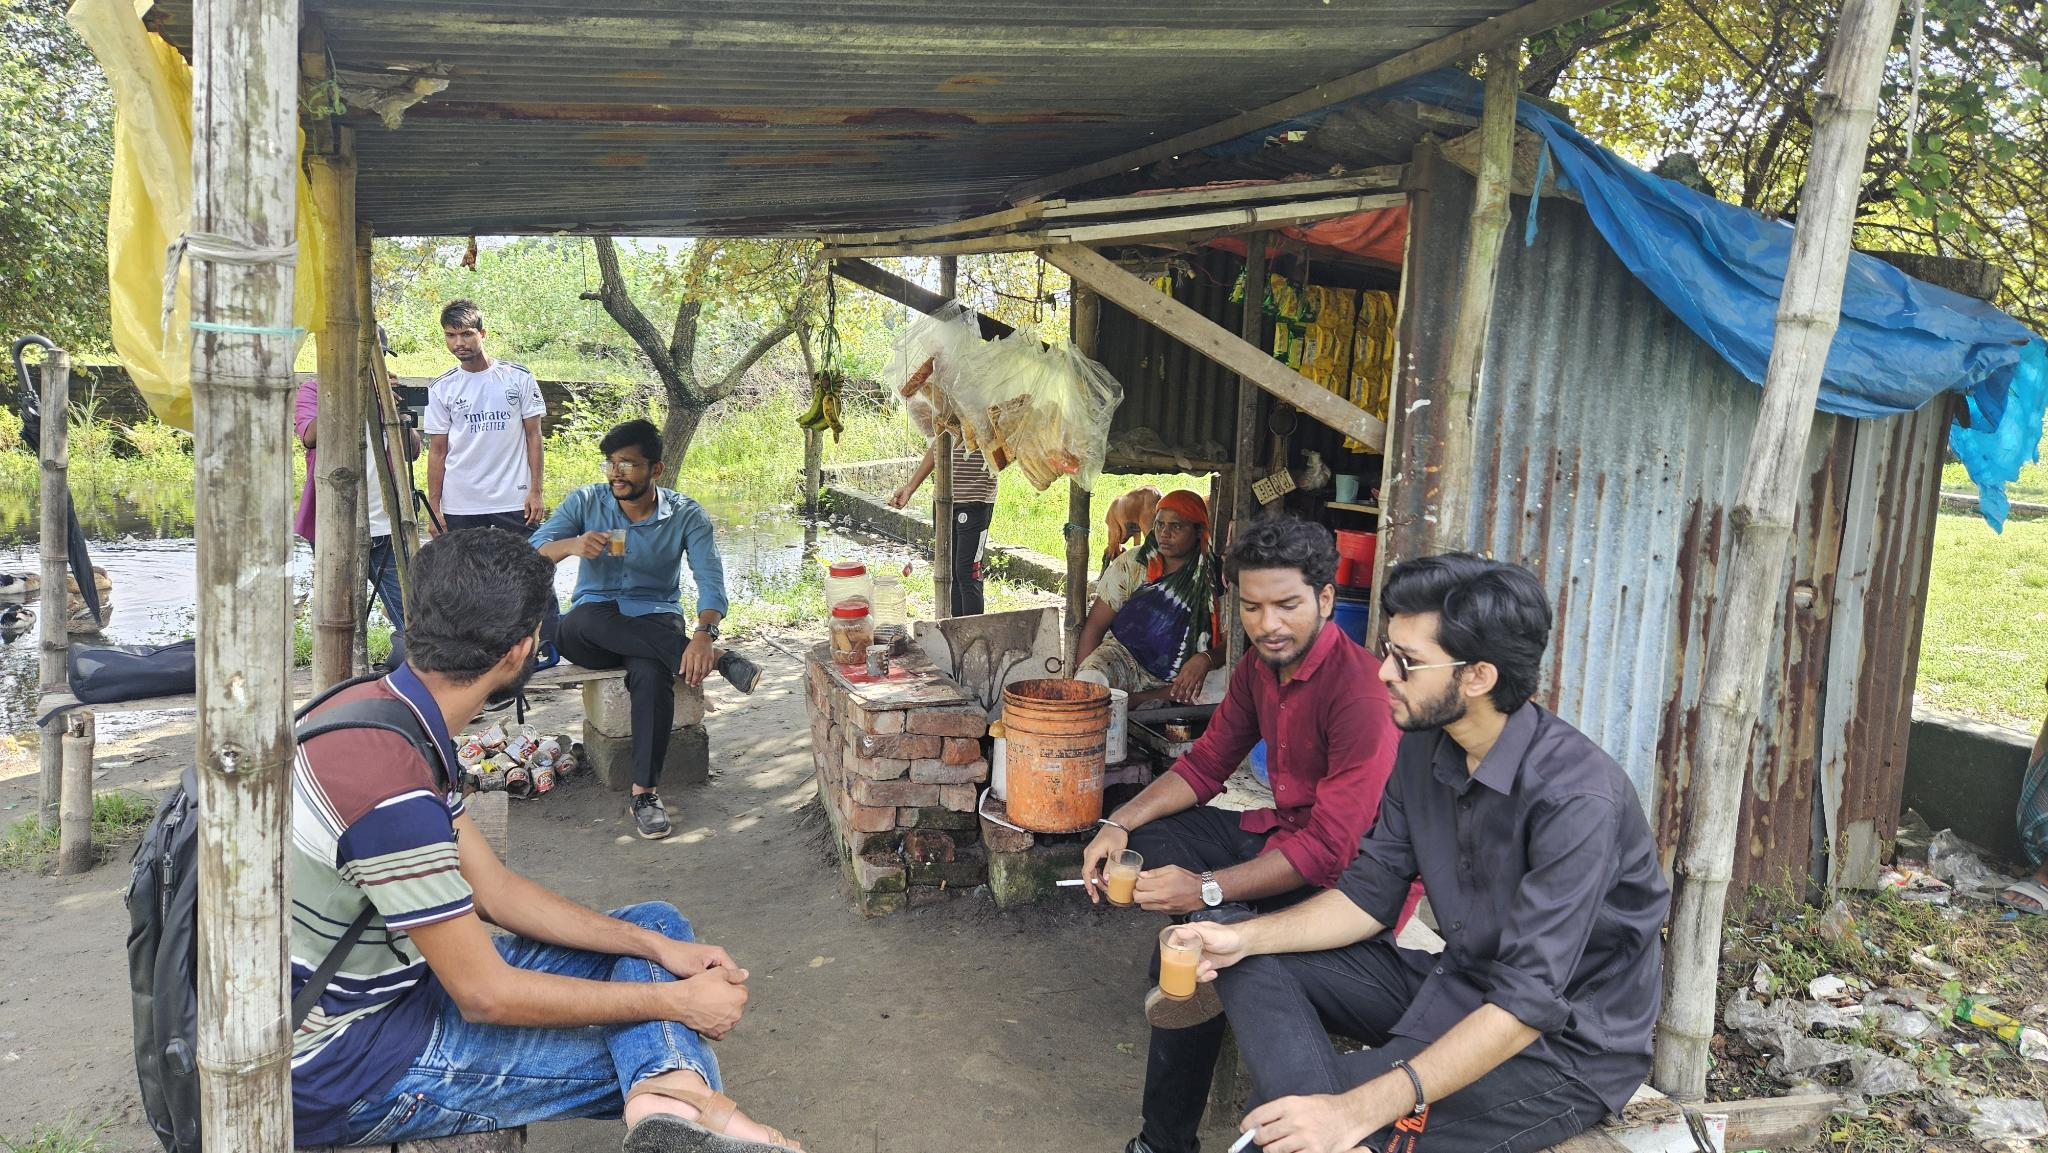cigarette: (1225, 1121, 1265, 1153), (1054, 876, 1100, 889)
nonSmoker: (291, 524, 803, 1153), (540, 418, 762, 842), (1076, 489, 1227, 706), (426, 298, 547, 534)
smoker: (1162, 554, 1672, 1153), (1077, 510, 1378, 920)
